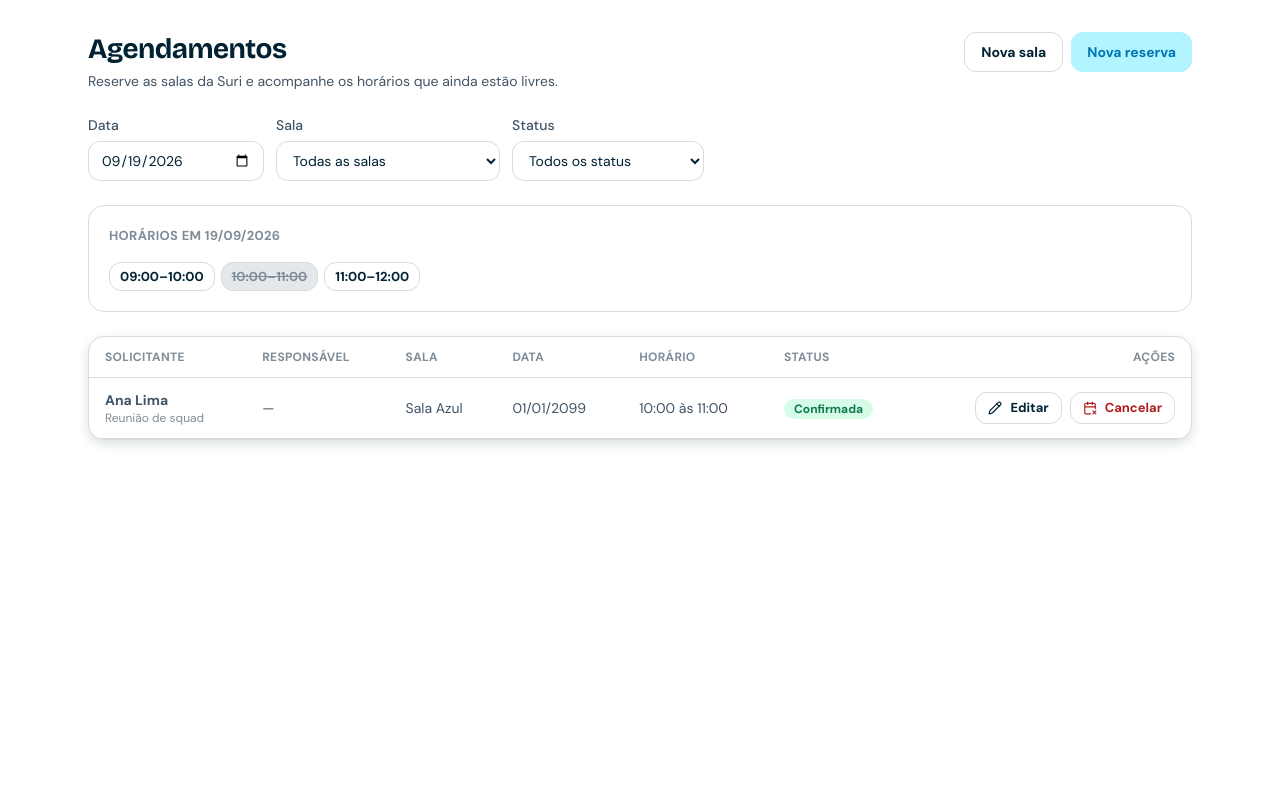
Test case: AgendamentosPage › abre o diálogo de edição da sala selecionada no filtro
Step 1. Select "Sala Azul" in the dropdown labelled "Sala" → (388, 161), box [276,141,500,181]
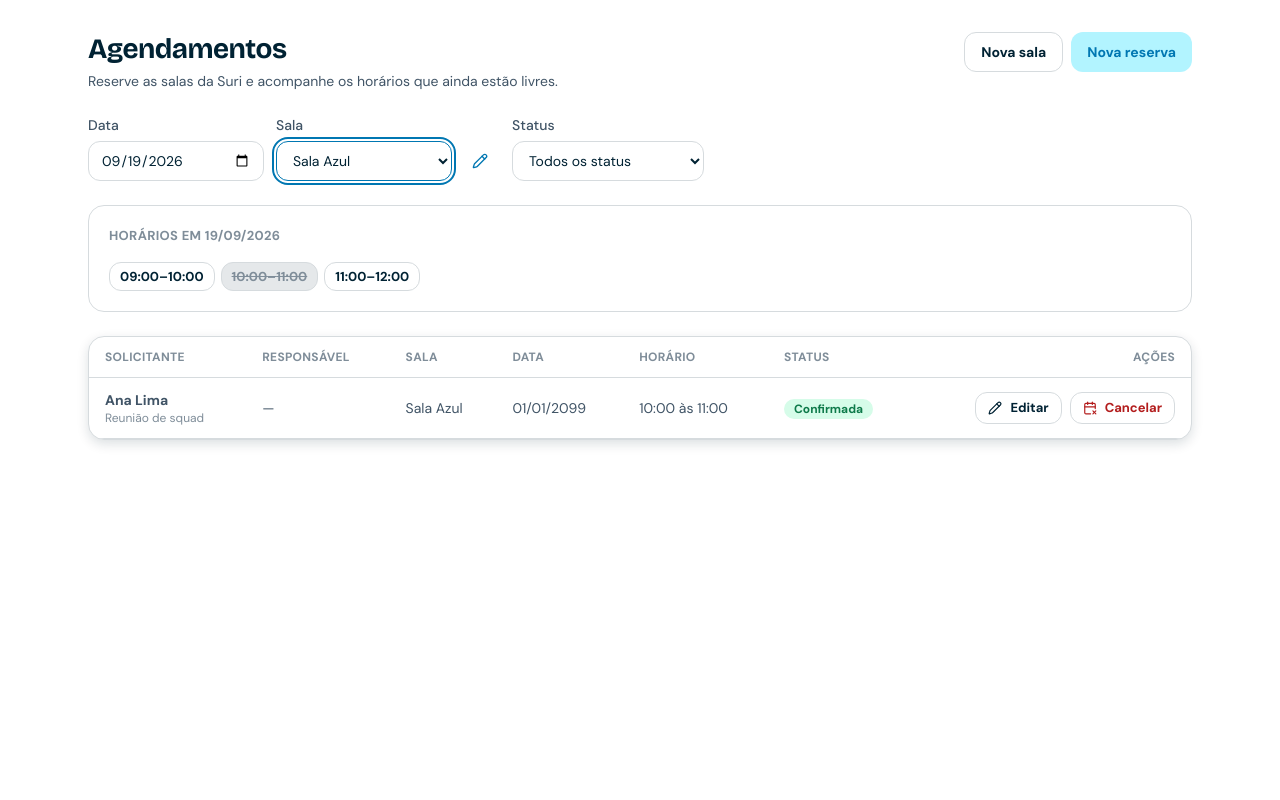
Step 2. Click the button named "Editar Sala Azul" → (480, 161), box [460,145,500,177]
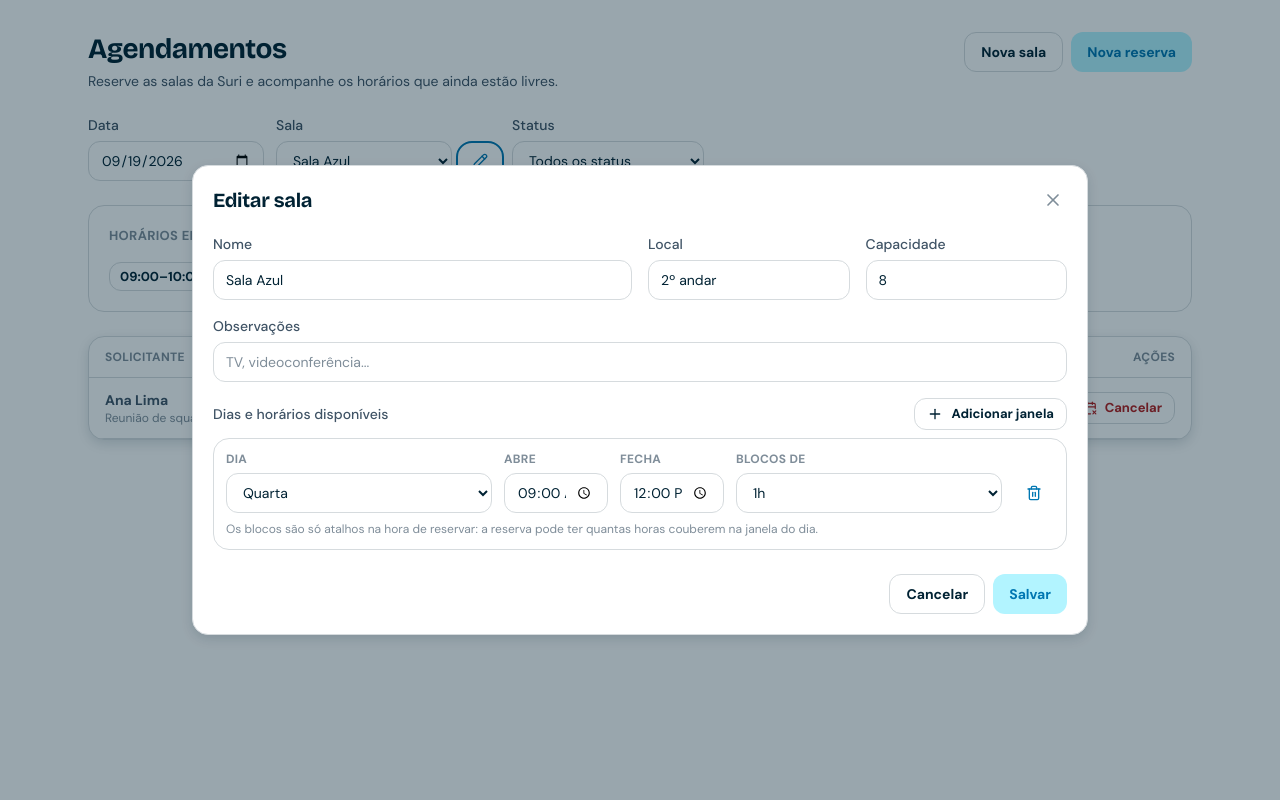
expect the dialog "Editar sala" is shown: met, box [192,165,1088,635]
expect the field labelled "Nome" holds "Sala Azul": met, box [213,260,632,300]
